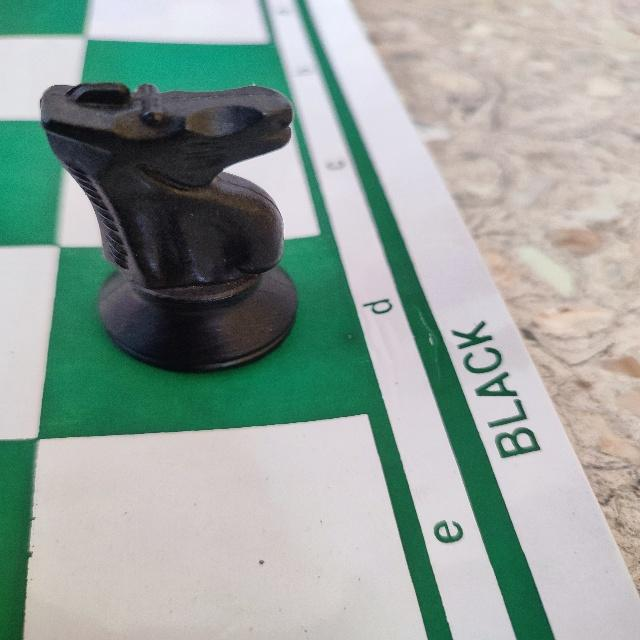Knight: (36, 76, 300, 378)
